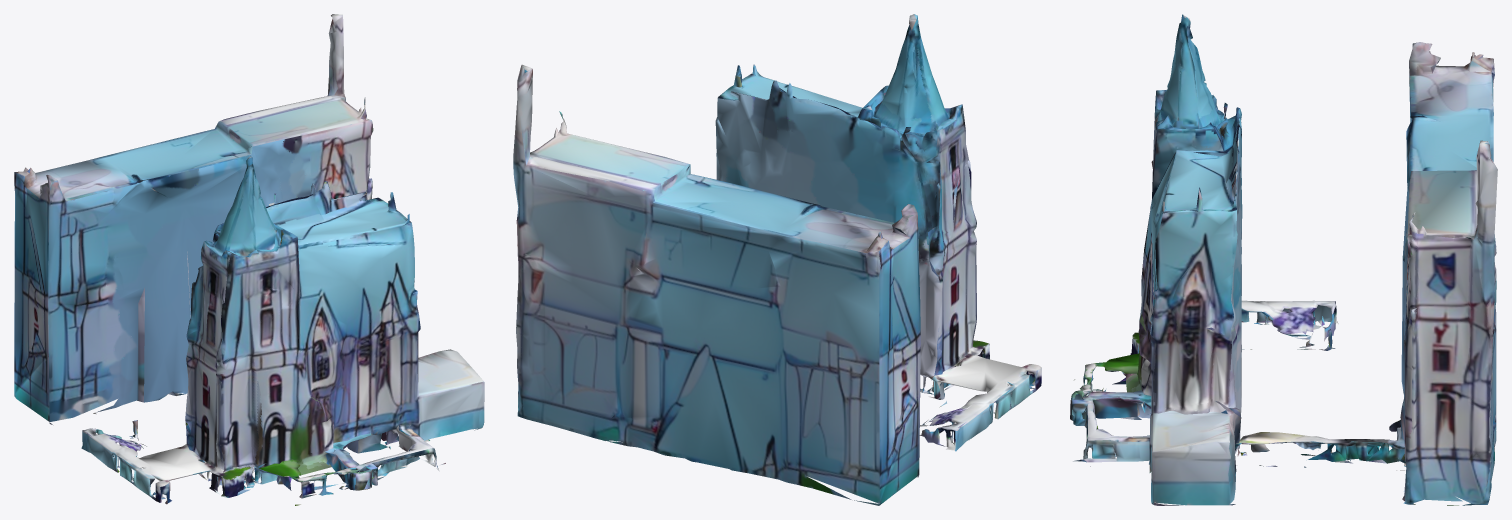
Rendered from covenant_sanctum.glb.
3 views of the same model, side by side, from view 1: azimuth 30°, elevation 25°; view 2: azimuth 150°, elevation 25°; view 3: azimuth 270°, elevation 25° (orthographic). The views are drawn at different scales.
Parts seen in each view (by area): view 1: LP_baked; view 2: LP_baked; view 3: LP_baked.
Boxes of the visible parts, left/top/right/bottom form: LP_baked: left=14, top=14, right=484, bottom=505; LP_baked: left=513, top=14, right=1041, bottom=505; LP_baked: left=1070, top=14, right=1497, bottom=505.
Size of the model in its own units: 1.98 by 1.82 by 1.92.
Materials: 1 (1 with a texture image).
